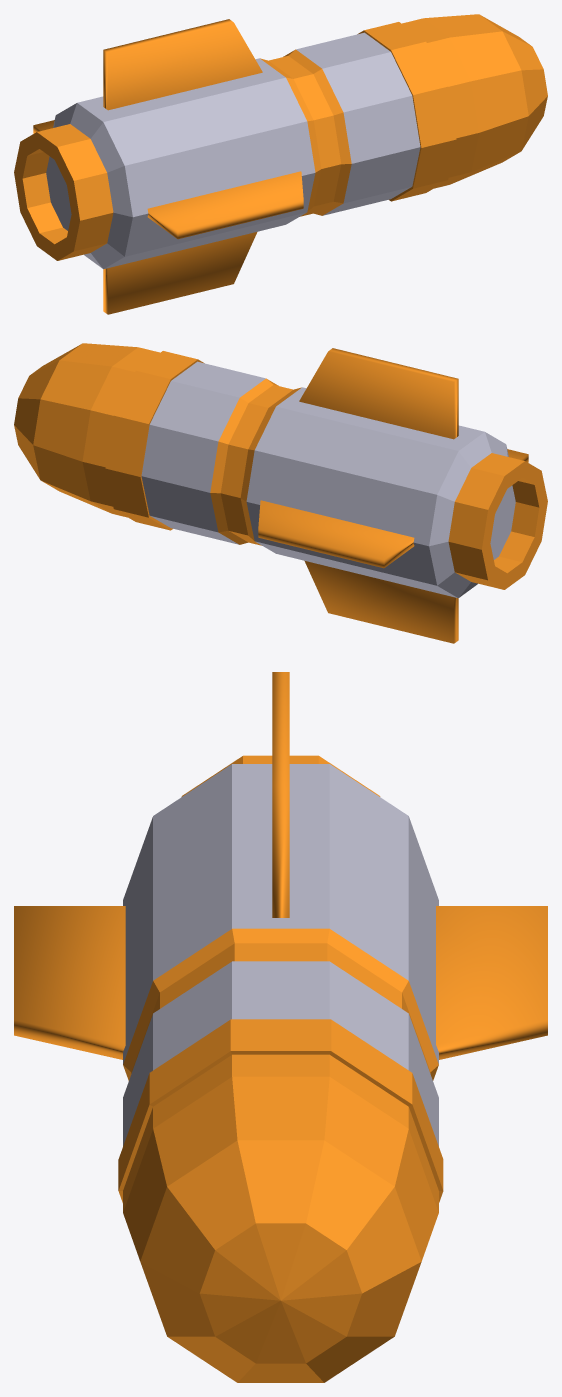
Rendered from Small Rocket.fbx.
3 views of the same model, one above another, from view 1: azimuth 30°, elevation 25°; view 2: azimuth 150°, elevation 25°; view 3: azimuth 270°, elevation 25° (orthographic). The views are drawn at different scales.
Parts seen in each view (by area): view 1: Mesh; view 2: Mesh; view 3: Mesh.
Boxes of the visible parts, x1,y1,x2,y2 form: Mesh: (14,14,547,314); Mesh: (14,343,547,643); Mesh: (14,672,547,1382).
Bounding box in the file's own units: 718 × 368 × 368.
